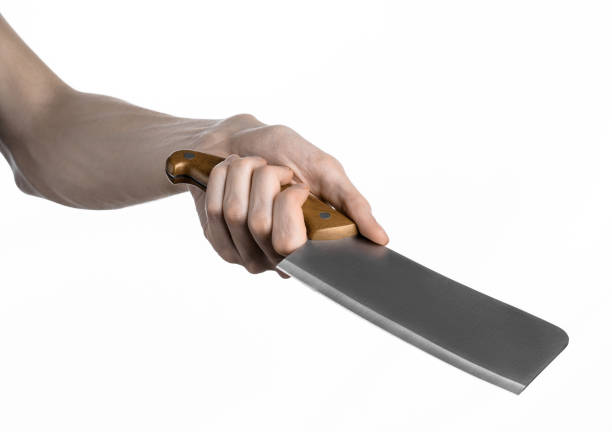knife: (161, 145, 575, 401)
